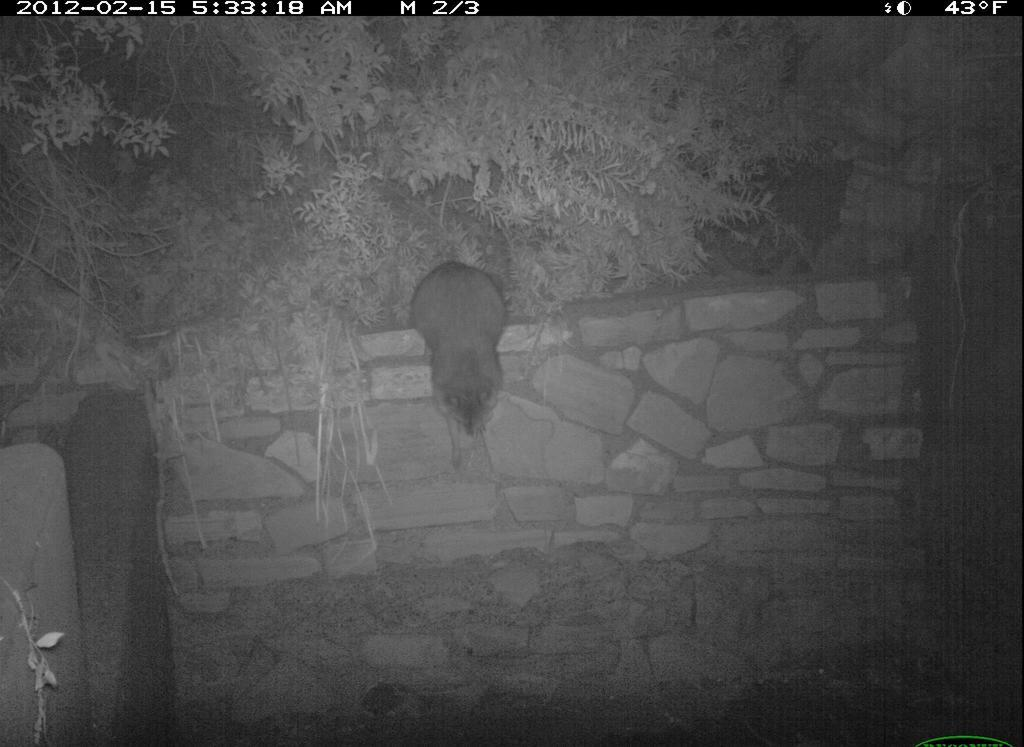raccoon: (411, 255, 520, 450)
